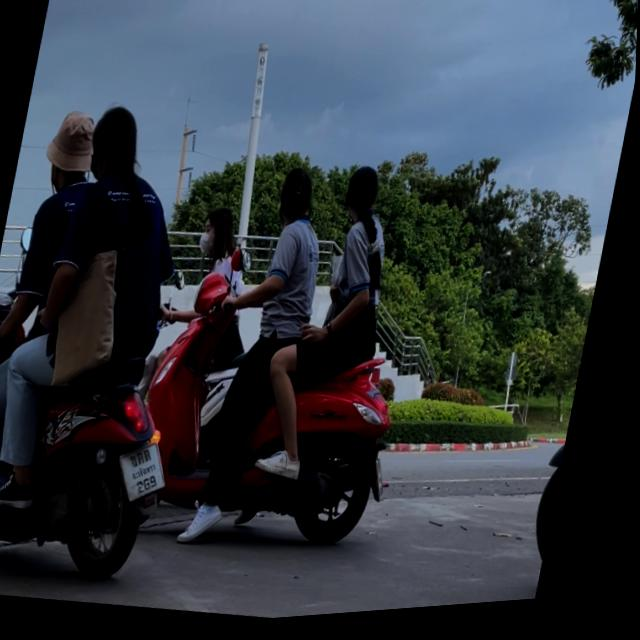seatbelt: (39, 102, 100, 198), (88, 102, 147, 189), (276, 168, 320, 232), (342, 167, 386, 227), (197, 206, 239, 263)
